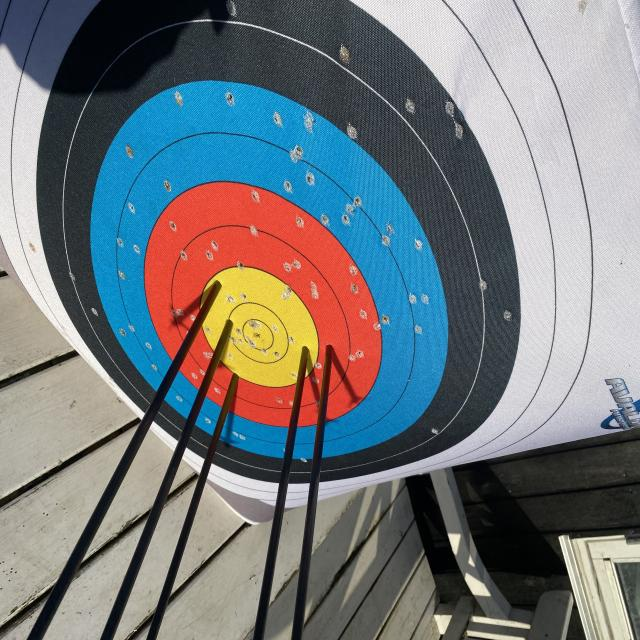Arrow_Red: (324, 338, 352, 374), (225, 365, 247, 394)
Arrow_Yellow: (288, 336, 317, 372), (207, 271, 226, 308), (217, 312, 246, 336)
